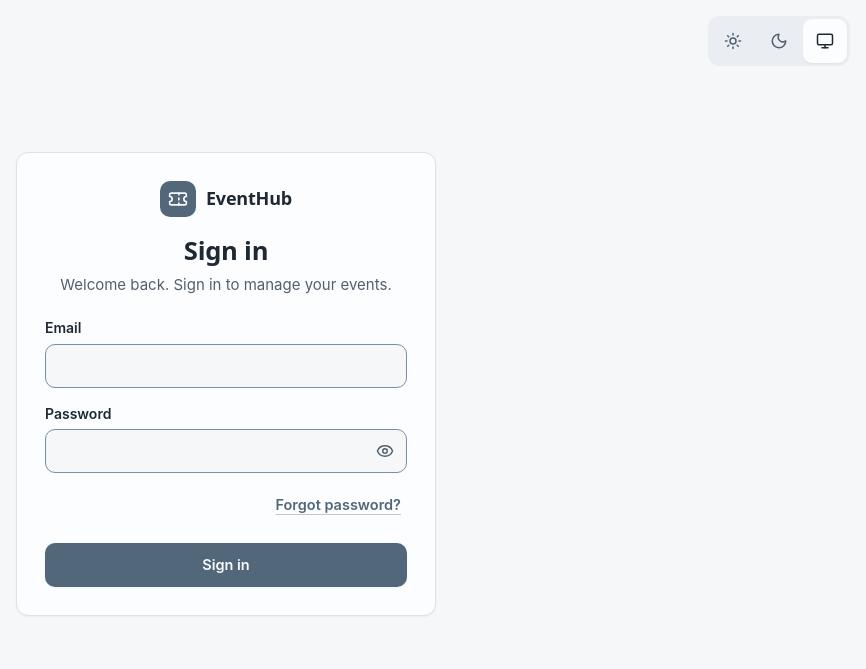
Test: LoginPage › shows the disabled-account message on account_disabled
Type "sara@example.test" into the field labelled "Email" at (226, 366), box x1=45 y1=344 x2=407 y2=388
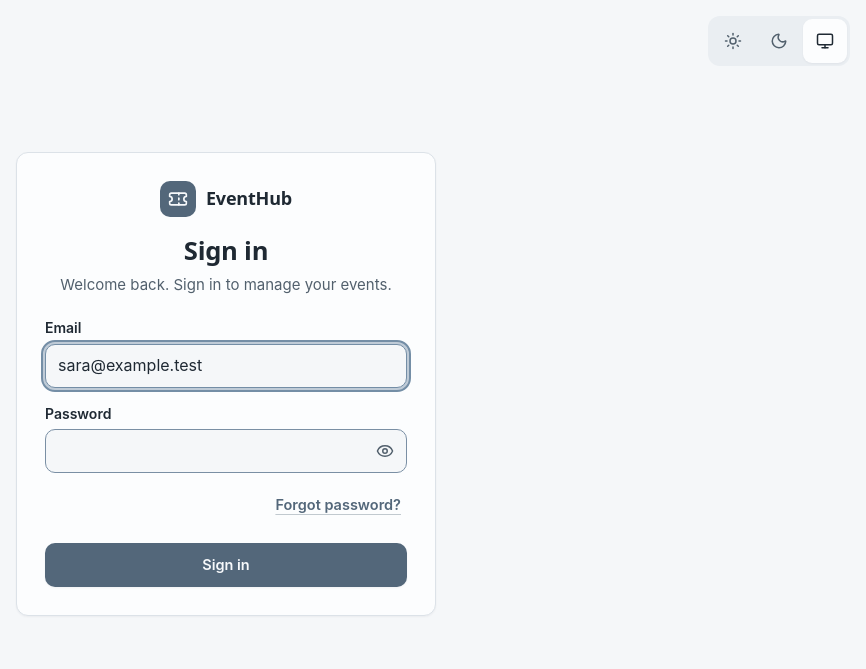
Type "secret" into the password field labelled "Password" at (226, 451), box x1=45 y1=429 x2=407 y2=473
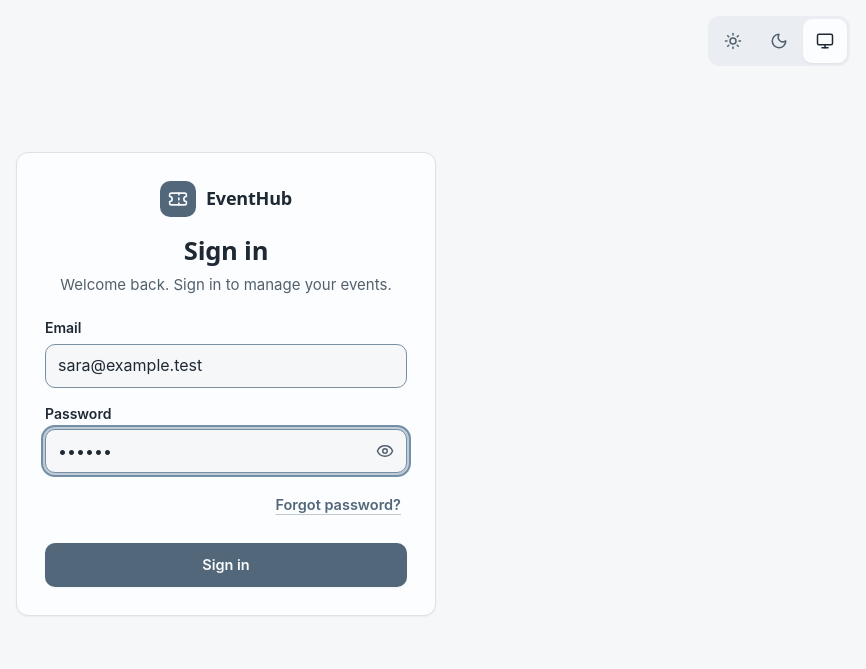
Click the button "Sign in" at (226, 565), box x1=45 y1=543 x2=407 y2=587
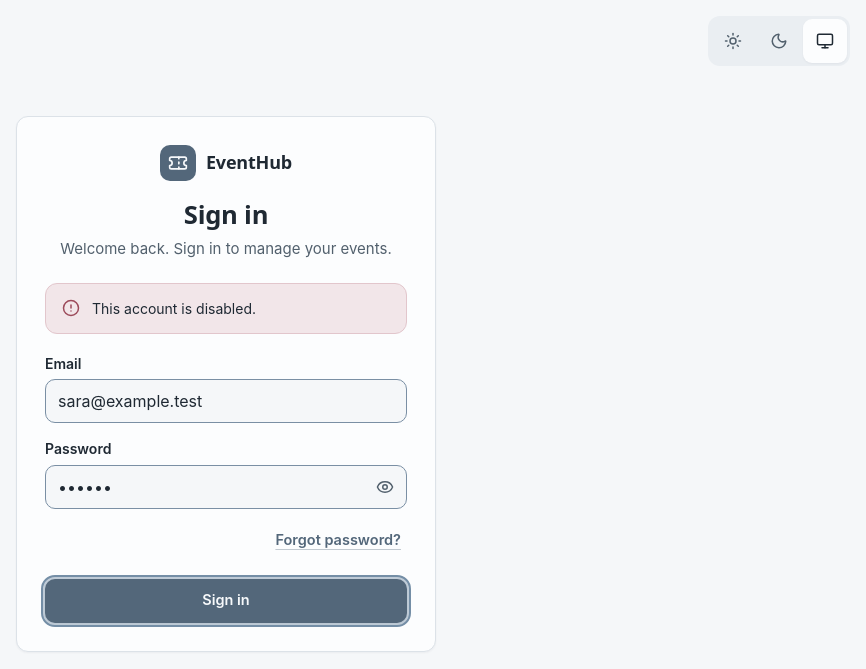
Check: the message reads "This account is disabled.", box x1=92 y1=300 x2=256 y2=316
